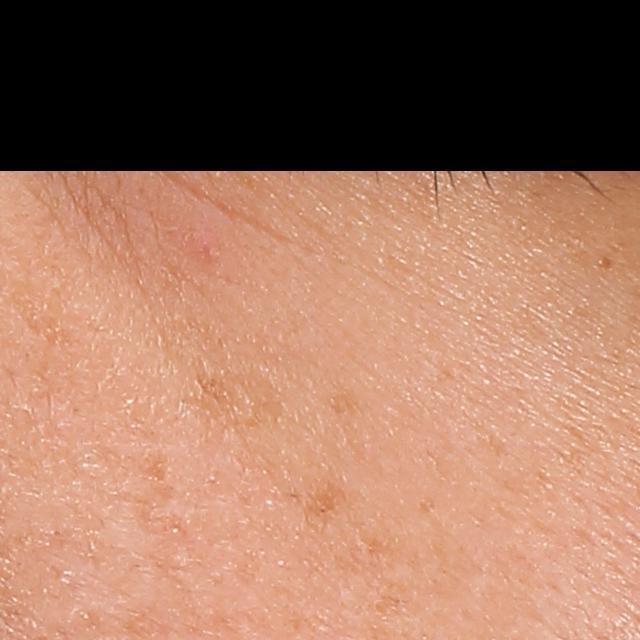melasma: (183, 372, 280, 428), (295, 485, 348, 522)
